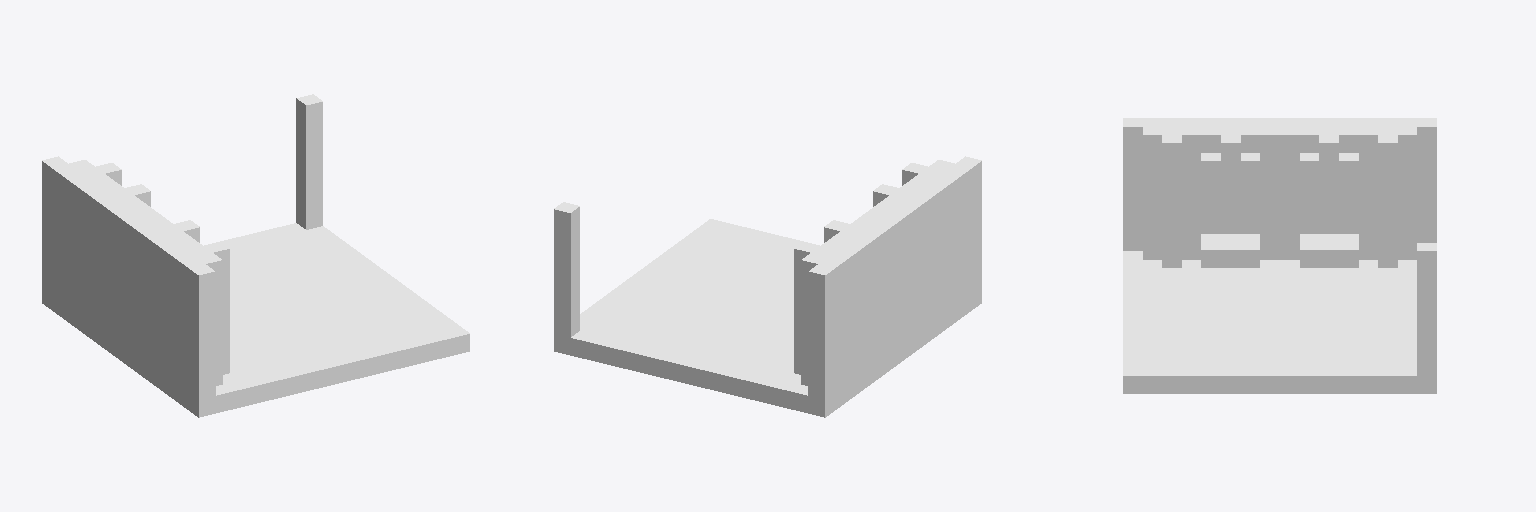
File: towar-30.obj
3 renders of one model, left to right at view 1: azimuth 30°, elevation 25°; view 2: azimuth 150°, elevation 25°; view 3: azimuth 270°, elevation 25°, orthographic.
Visible parts, largest first — view 1: towar-30; view 2: towar-30; view 3: towar-30.
Boxes of the visible parts, x1=… form: towar-30: x1=42, y1=94, x2=469, y2=417; towar-30: x1=554, y1=156, x2=981, y2=417; towar-30: x1=1123, y1=118, x2=1436, y2=393.
Size of the model in its own units: 16 by 8 by 16.